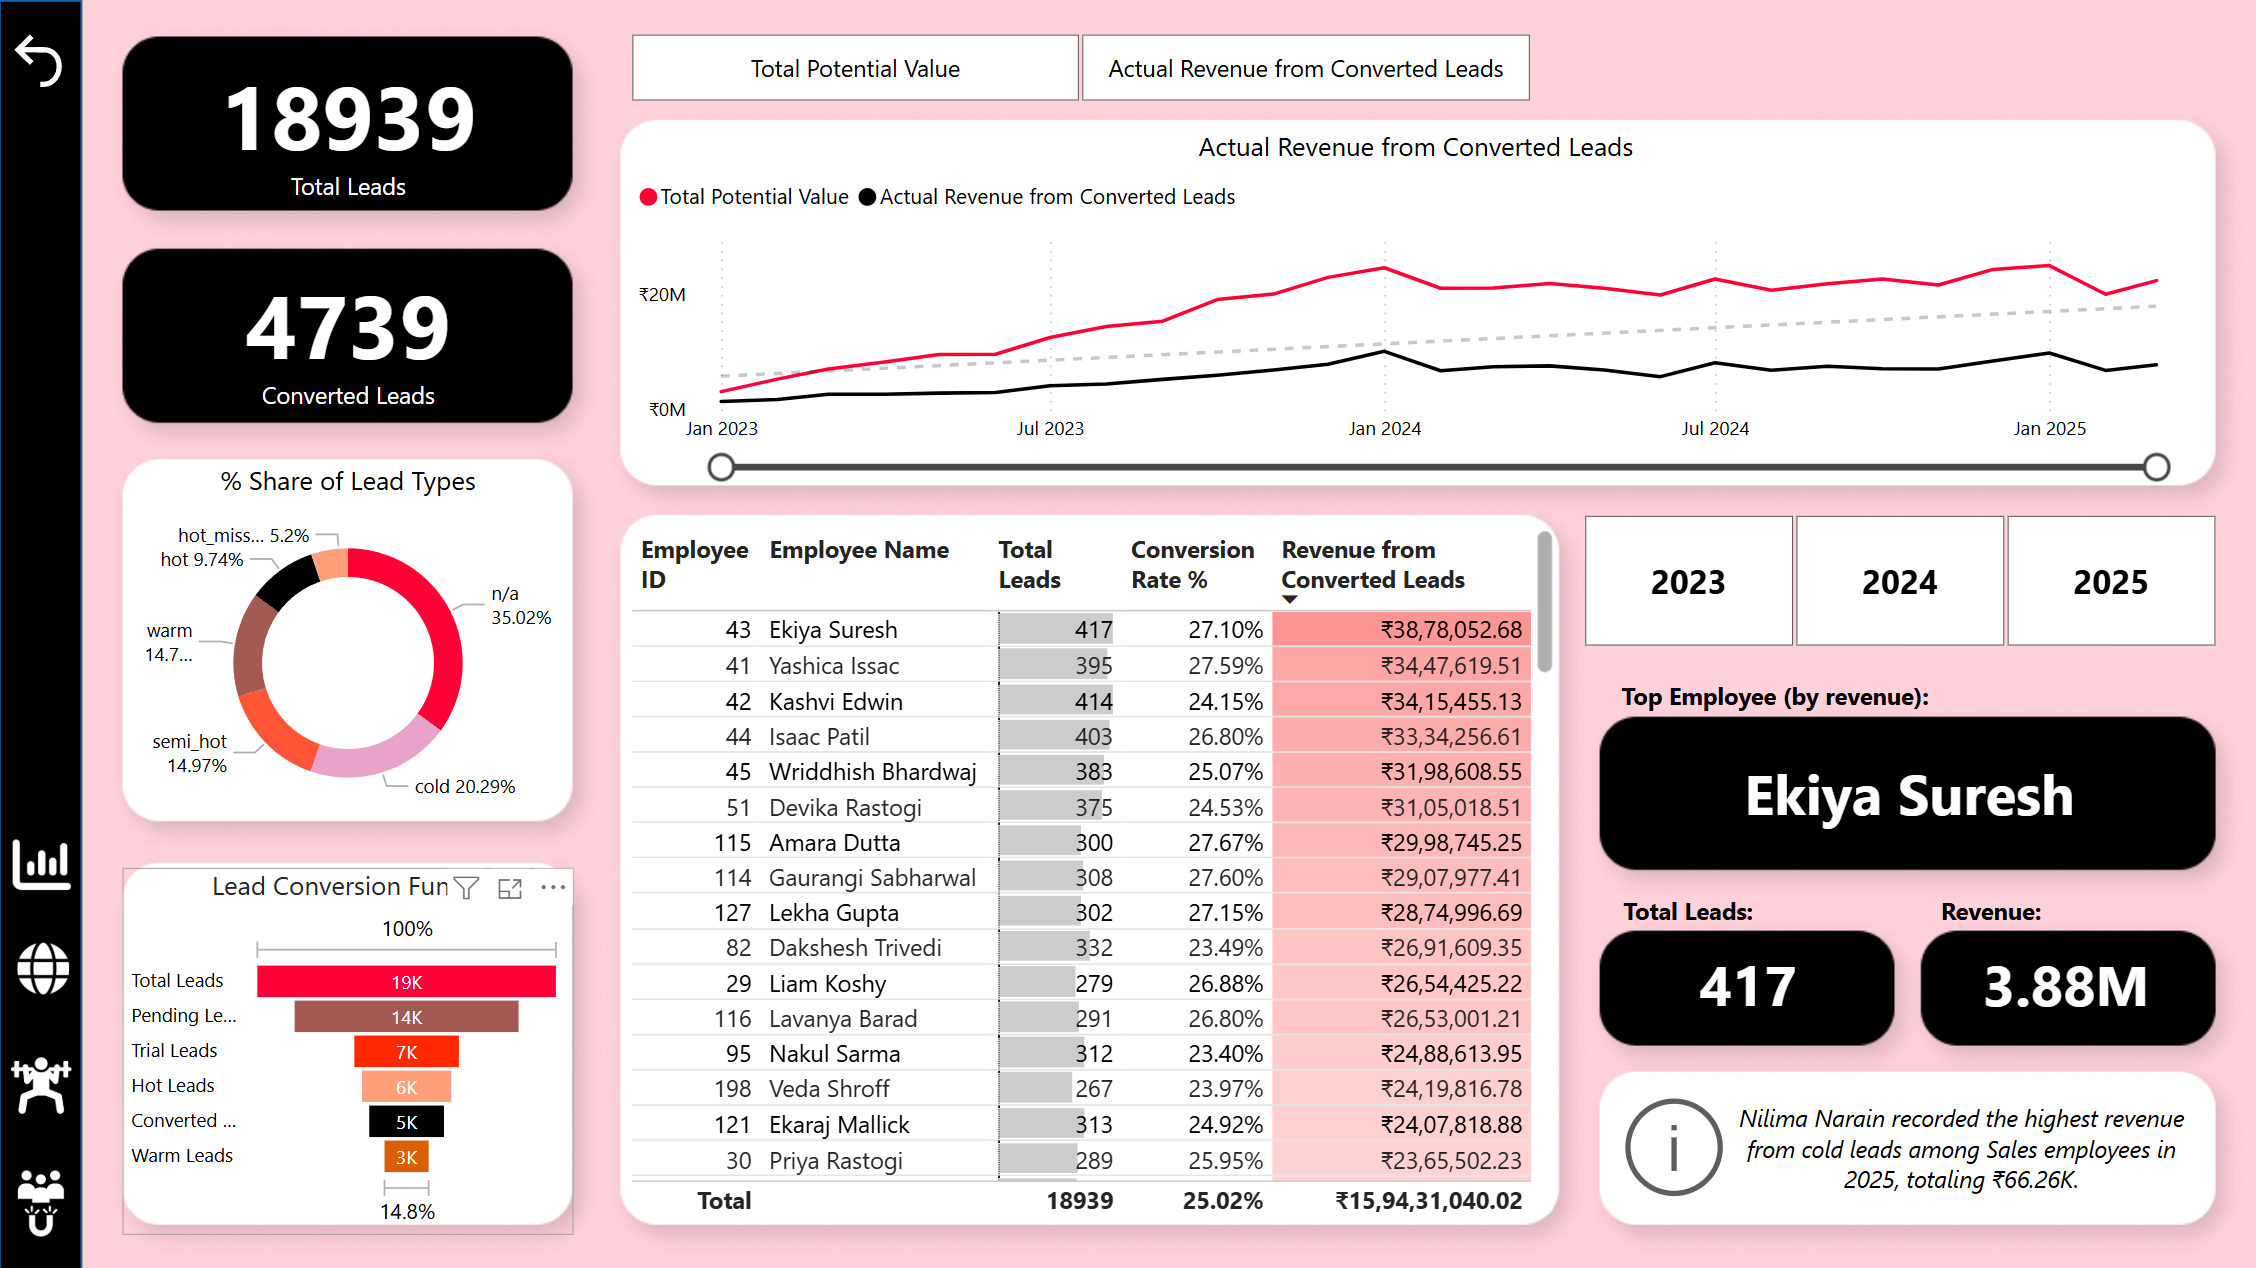

The dashboard page shown, as its layout file describes it:
{"tool":"powerbi","page":{"name":"Lead & Conversion Analytics","canvas":[1280,720],"ordinal":3},"visuals":[{"type":"funnel","title":"Lead Conversion Funnel","fields":{"Y":["KPI Measures.Total Leads","KPI Measures.Pending Leads","KPI Measures.Trial Leads","KPI Measures.Hot Leads","KPI Measures.Converted Leads","KPI Measures.Warm Leads"]},"box":[70,491.4,255.7,208.6],"z":0},{"type":"tableEx","title":"Leads by Source","fields":{"Values":["employees.employee_id","employees.name","KPI Measures.Total Leads","KPI Measures.Conversion Rate %","KPI Measures.Actual Revenue from Converted Leads"]},"box":[352.9,295.7,532.8,398.6],"z":1000},{"type":"lineChart","fields":{"Category":["Calender Lookup.Date Hierarchy.Start of Year","Calender Lookup.Date Hierarchy.Start of Month","Calender Lookup.Date Hierarchy.Start of Week","Calender Lookup.Date Hierarchy.Date"],"Y":["KPI Measures.Total Potential Value","KPI Measures.Actual Revenue from Converted Leads"]},"box":[357.1,72.9,891.4,202.9],"z":2000},{"type":"donutChart","title":"% Share of Lead Types","fields":{"Y":["KPI Measures.Total Leads"],"Category":["leads.lead_type"]},"box":[70,261.4,255.7,208.6],"z":3000},{"type":"card","fields":{"Values":["KPI Measures.Total Leads"]},"box":[97.1,21.4,201.4,101.4],"z":4000},{"type":"card","fields":{"Values":["KPI Measures.Converted Leads"]},"box":[97.1,140,201.4,101.4],"z":5000},{"type":"shape","box":[0,0,47.1,720],"z":12001},{"type":"image","box":[0,652.9,47.1,58.6],"z":12002},{"type":"image","box":[2,592,44,47],"z":12003},{"type":"image","box":[5,524,39,50],"z":12004},{"type":"image","box":[3,466,43,47],"z":12005},{"type":"slicer","fields":{"Values":["Leads Metric Selection.Leads Metric Selection"]},"box":[332.9,12.9,558.6,51.4],"z":12006},{"type":"slicer","fields":{"Values":["Calender Lookup.Year"]},"box":[872.9,285.7,407.1,87.1],"z":12007},{"type":"card","fields":{"Values":["employees.Employee Name (Employee Detail)"]},"box":[918.6,410,330,80],"z":12008},{"type":"card","fields":{"Values":["KPI Measures.Total Leads (Employee Detail)"]},"box":[912.9,524.3,157.1,67.1],"z":12009},{"type":"card","fields":{"Values":["KPI Measures.Total Revenue (Employee Revenue)"]},"box":[1094.3,524.3,154.3,67.1],"z":12010},{"type":"textbox","box":[914.3,380,240,40],"z":12011},{"type":"textbox","box":[915.7,501.4,140,40],"z":12012},{"type":"textbox","box":[1095.7,501.4,140,40],"z":12013},{"type":"actionButton","box":[914.3,615.7,334.3,70],"z":12014},{"type":"actionButton","box":[2.9,14.3,47.1,40],"z":12015}]}

Visuals, with their boxes on the page's 1280x720 design canvas (x1, y1, x2, y2). These are canvas units, not pixel positions in the 2256x1268 screenshot, which may show the page scaled, cropped or inside an application window:
"Lead Conversion Funnel" funnel: left=70, top=491, right=326, bottom=700
"Leads by Source" tableEx: left=353, top=296, right=886, bottom=694
lineChart - Calender Lookup.Date Hierarchy.Start of Year x Calender Lookup.Date Hierarchy.Start of Month: left=357, top=73, right=1248, bottom=276
"% Share of Lead Types" donutChart: left=70, top=261, right=326, bottom=470
card - KPI Measures.Total Leads: left=97, top=21, right=298, bottom=123
card - KPI Measures.Converted Leads: left=97, top=140, right=298, bottom=241
shape: left=0, top=0, right=47, bottom=720
image: left=0, top=653, right=47, bottom=712
image: left=2, top=592, right=46, bottom=639
image: left=5, top=524, right=44, bottom=574
image: left=3, top=466, right=46, bottom=513
slicer - Leads Metric Selection.Leads Metric Selection: left=333, top=13, right=892, bottom=64
slicer - Calender Lookup.Year: left=873, top=286, right=1280, bottom=373
card - employees.Employee Name (Employee Detail): left=919, top=410, right=1249, bottom=490
card - KPI Measures.Total Leads (Employee Detail): left=913, top=524, right=1070, bottom=591
card - KPI Measures.Total Revenue (Employee Revenue): left=1094, top=524, right=1249, bottom=591
textbox: left=914, top=380, right=1154, bottom=420
textbox: left=916, top=501, right=1056, bottom=541
textbox: left=1096, top=501, right=1236, bottom=541
actionButton: left=914, top=616, right=1249, bottom=686
actionButton: left=3, top=14, right=50, bottom=54
